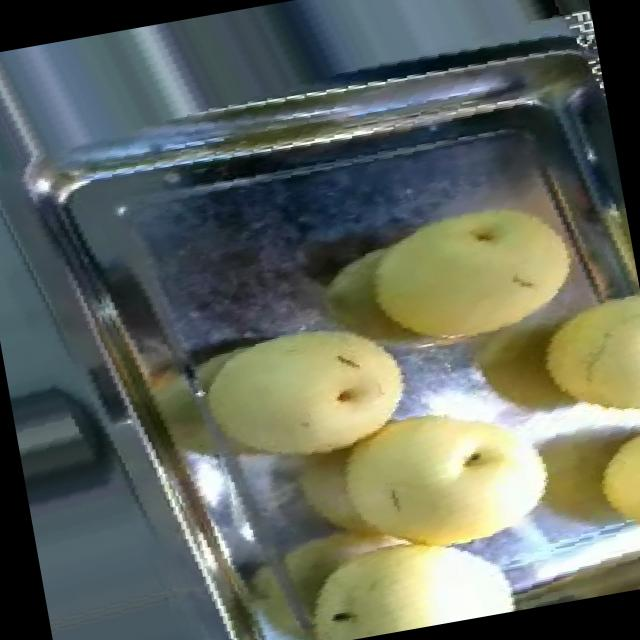Fruit: (306, 367, 574, 600), (338, 155, 610, 380), (169, 294, 438, 504), (246, 476, 495, 640), (508, 262, 640, 462), (569, 402, 640, 568)
